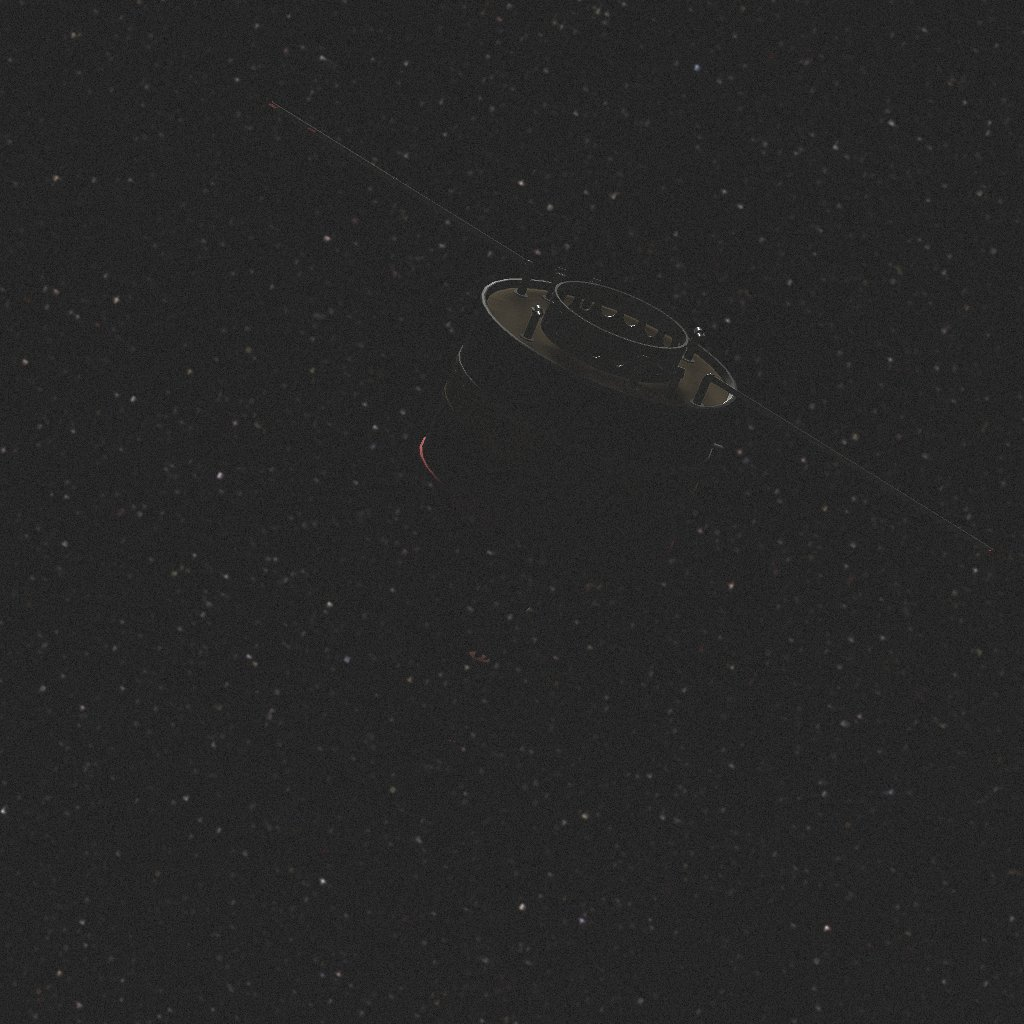double_star: (267, 101, 1005, 748)
